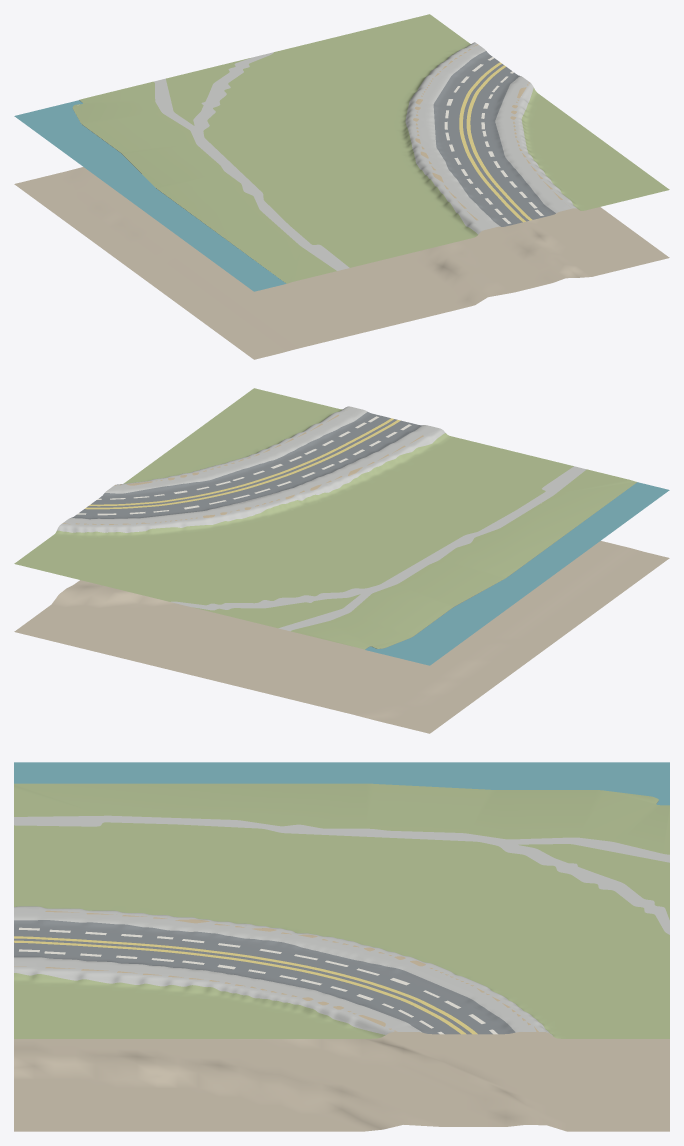
The picture shows the model from 3 angles, top to bottom: view 1: azimuth 30°, elevation 25°; view 2: azimuth 150°, elevation 25°; view 3: azimuth 270°, elevation 25°; orthographic projection. The views are drawn at different scales.
Parts seen in each view (by area): view 1: s_-12_-6__grass, s_-12_-6__soil, s_-12_-6__stone_paving, s_-12_-6__asphalt, s_-12_-6__water, s_-12_-6__yellow_marking, s_-12_-6__white_marking, s_-12_-6__timber_deck; view 2: s_-12_-6__grass, s_-12_-6__soil, s_-12_-6__stone_paving, s_-12_-6__asphalt, s_-12_-6__water, s_-12_-6__yellow_marking, s_-12_-6__white_marking, s_-12_-6__timber_deck; view 3: s_-12_-6__grass, s_-12_-6__soil, s_-12_-6__stone_paving, s_-12_-6__asphalt, s_-12_-6__water, s_-12_-6__yellow_marking, s_-12_-6__white_marking, s_-12_-6__timber_deck.
Part boxes in pixels (box(x1,y1,x2,y2)): s_-12_-6__grass: box(72, 14, 669, 283); s_-12_-6__soil: box(14, 167, 669, 359); s_-12_-6__stone_paving: box(154, 42, 577, 270); s_-12_-6__asphalt: box(433, 51, 555, 226); s_-12_-6__water: box(14, 100, 286, 291); s_-12_-6__yellow_marking: box(459, 62, 532, 222); s_-12_-6__white_marking: box(444, 57, 543, 223); s_-12_-6__timber_deck: box(413, 44, 562, 220); s_-12_-6__grass: box(14, 388, 636, 649); s_-12_-6__soil: box(14, 541, 669, 733); s_-12_-6__stone_paving: box(57, 406, 586, 631); s_-12_-6__asphalt: box(71, 412, 422, 519); s_-12_-6__water: box(365, 482, 669, 665); s_-12_-6__yellow_marking: box(85, 418, 400, 509); s_-12_-6__white_marking: box(77, 416, 411, 515); s_-12_-6__timber_deck: box(62, 414, 423, 524); s_-12_-6__grass: box(14, 783, 669, 1038); s_-12_-6__soil: box(14, 931, 669, 1131); s_-12_-6__stone_paving: box(14, 815, 669, 1035); s_-12_-6__asphalt: box(14, 920, 515, 1034); s_-12_-6__water: box(14, 762, 669, 805); s_-12_-6__yellow_marking: box(14, 936, 477, 1034); s_-12_-6__white_marking: box(19, 927, 497, 1034); s_-12_-6__timber_deck: box(14, 910, 538, 1031).
Size of the model in its own units: 128 by 21.64 by 128.
